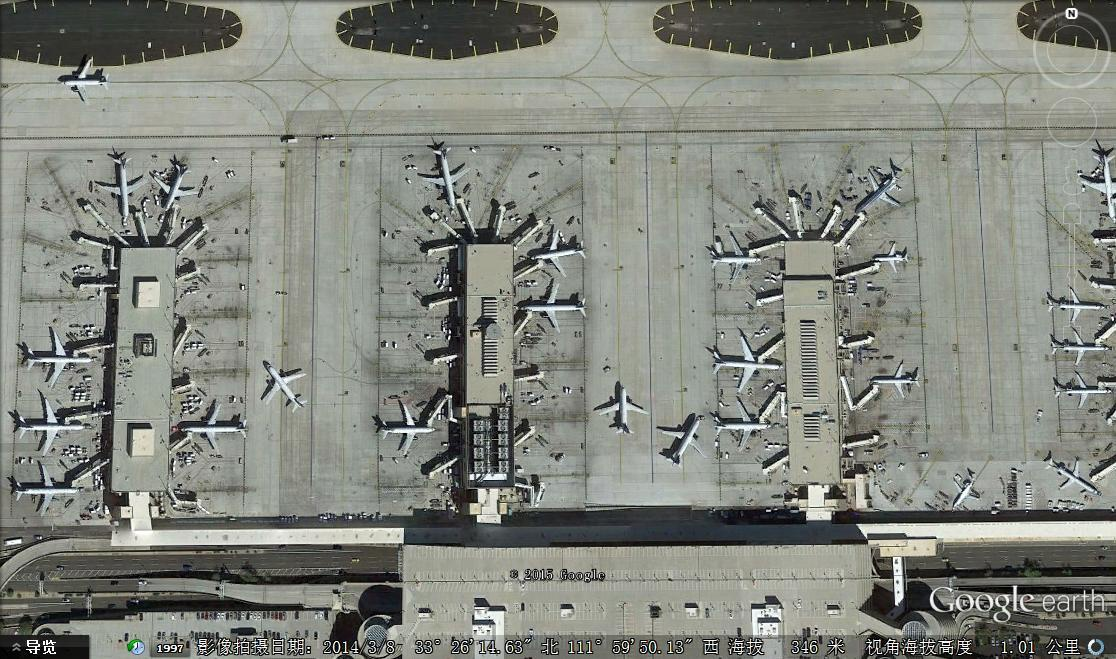aircraft: (708, 328, 787, 395), (23, 326, 100, 392), (17, 392, 87, 462), (13, 462, 82, 524), (176, 401, 254, 452), (516, 281, 591, 334), (377, 400, 438, 460), (420, 145, 472, 212), (712, 397, 772, 453), (96, 155, 146, 222), (650, 415, 711, 469), (706, 228, 764, 284), (256, 356, 311, 415), (1046, 326, 1113, 374), (58, 52, 113, 108), (147, 163, 206, 215), (529, 227, 588, 278), (1073, 150, 1115, 221), (853, 168, 910, 220), (1042, 451, 1103, 499), (598, 384, 649, 438), (1049, 369, 1114, 411), (1046, 284, 1106, 325), (871, 356, 926, 399), (873, 239, 916, 276), (949, 474, 984, 511)
